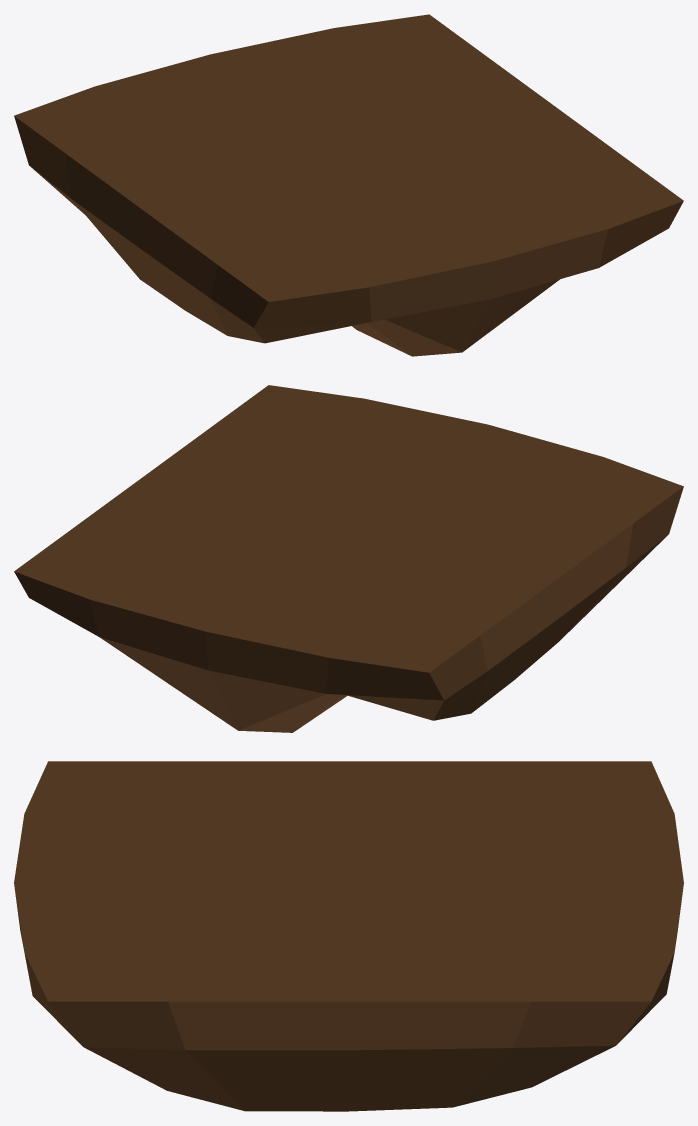
The model's file is LowPolyFarmDirt.fbx.
The picture shows the model from 3 angles, top to bottom: view 1: azimuth 30°, elevation 25°; view 2: azimuth 150°, elevation 25°; view 3: azimuth 270°, elevation 25°; orthographic projection. The views are drawn at different scales.
Parts seen in each view (by area): view 1: Dirt; view 2: Dirt; view 3: Dirt.
Boxes of the visible parts, x1=… form: Dirt: x1=14, y1=14, x2=683, y2=356; Dirt: x1=14, y1=385, x2=683, y2=732; Dirt: x1=14, y1=761, x2=683, y2=1111.
Size of the model in its own units: 70.09 by 27.17 by 82.65.
